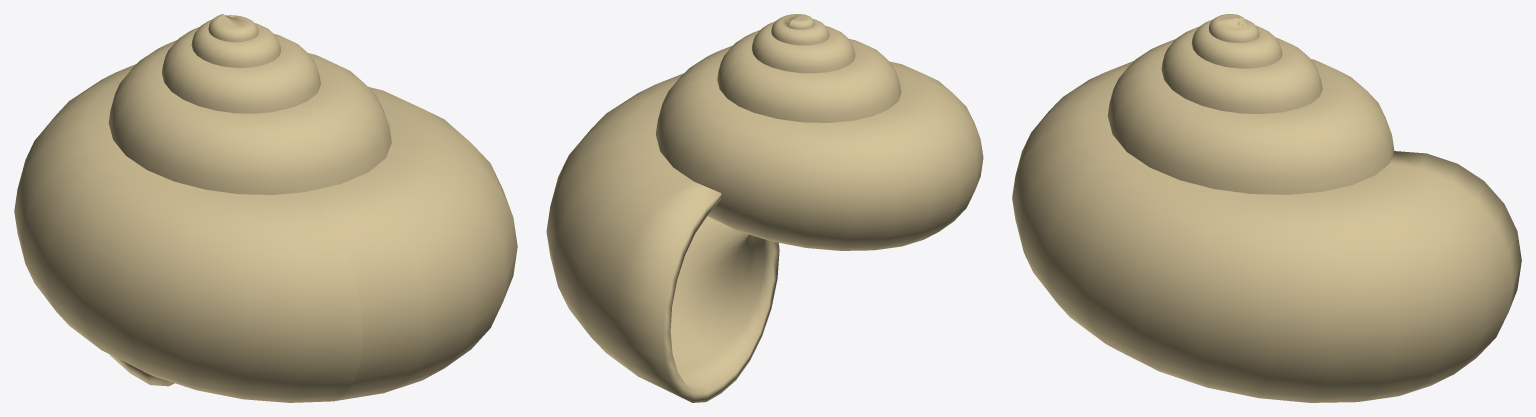
The model's file is shell_snail.fbx.
3 views of the same model, side by side, from view 1: azimuth 30°, elevation 25°; view 2: azimuth 150°, elevation 25°; view 3: azimuth 270°, elevation 25° (orthographic). The views are drawn at different scales.
Visible parts, largest first — view 1: shell_snail; view 2: shell_snail; view 3: shell_snail.
Boxes of the visible parts, left/top/right/bottom form: shell_snail: left=14, top=14, right=517, bottom=402; shell_snail: left=546, top=14, right=983, bottom=402; shell_snail: left=1012, top=14, right=1521, bottom=402.
Size of the model in its own units: 0.3271 by 0.2846 by 0.3738.
